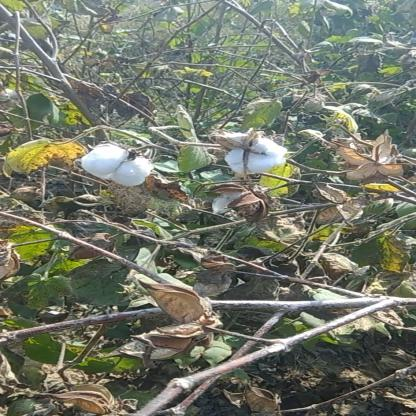cotton_ready: (192, 123, 304, 197), (80, 151, 172, 200)
